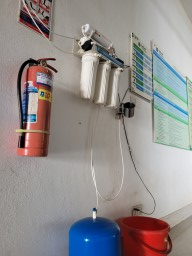fire_extinguisher: (74, 20, 149, 77)
